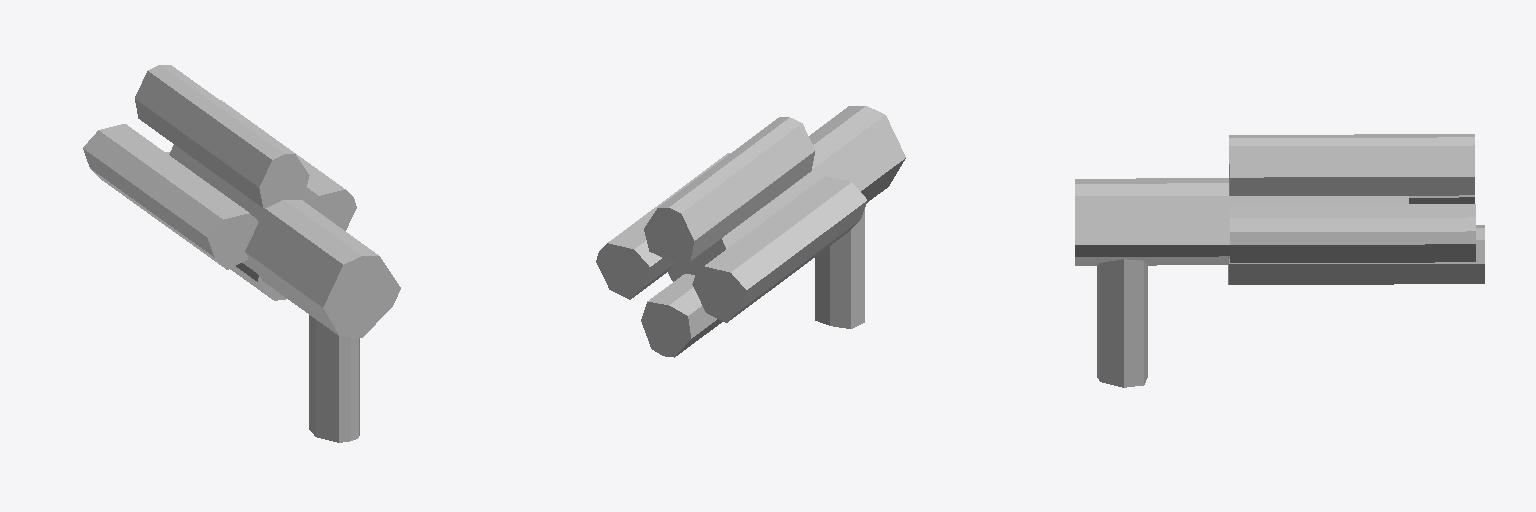
The model's file is super_nailgun.obj.
3 renders of one model, left to right at view 1: azimuth 30°, elevation 25°; view 2: azimuth 150°, elevation 25°; view 3: azimuth 270°, elevation 25°, orthographic.
Visible parts, largest first — view 1: Cube.001, Cube, Cube.003, Cube.004, Cube.002, Cube.005; view 2: Cube, Cube.003, Cube.001, Cube.004, Cube.005, Cube.002; view 3: Cube, Cube.001, Cube.002, Cube.004, Cube.005, Cube.003.
Boxes of the visible parts, <box> form: Cube.001: <box>169,145,400,337</box>; Cube: <box>135,65,309,207</box>; Cube.003: <box>83,124,258,269</box>; Cube.004: <box>309,315,359,442</box>; Cube.002: <box>220,100,356,230</box>; Cube.005: <box>165,151,286,300</box>; Cube: <box>644,117,815,260</box>; Cube.003: <box>692,176,867,322</box>; Cube.001: <box>667,106,905,281</box>; Cube.004: <box>815,209,864,328</box>; Cube.005: <box>641,274,722,357</box>; Cube.002: <box>596,153,730,299</box>; Cube: <box>1229,134,1474,195</box>; Cube.001: <box>1075,178,1408,265</box>; Cube.002: <box>1230,204,1475,262</box>; Cube.004: <box>1097,259,1147,387</box>; Cube.005: <box>1228,225,1484,284</box>; Cube.003: <box>1409,195,1474,203</box>.
Size of the model in its own units: 0.7577 by 1.14 by 1.77.